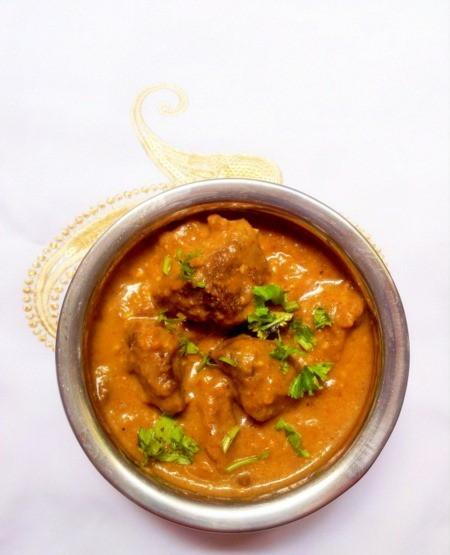MuttonCurry: (86, 210, 374, 499)
